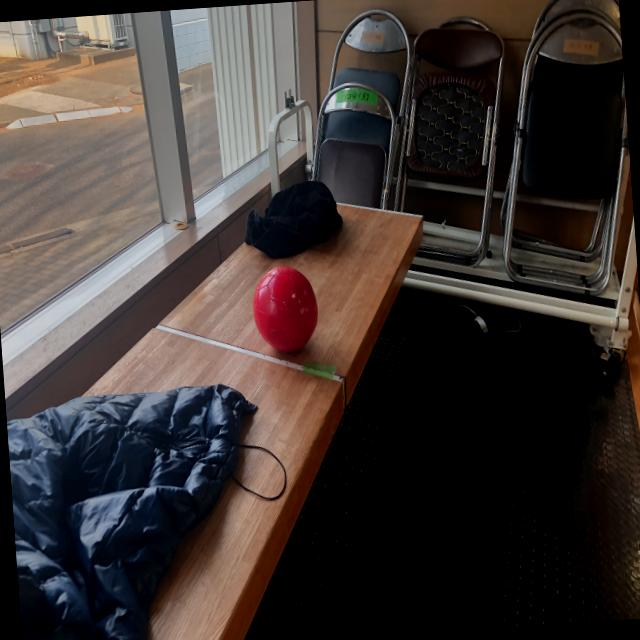red_ball: (250, 263, 318, 356)
